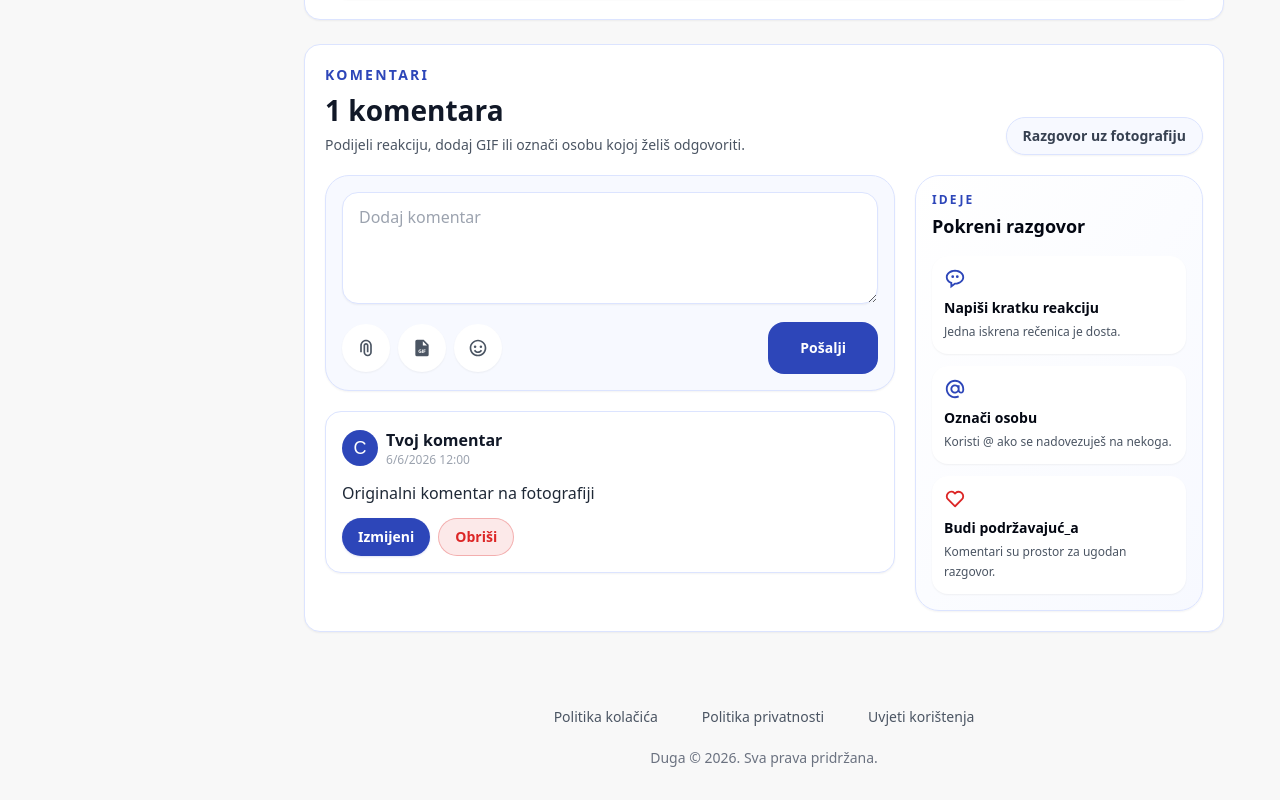
Test: photo comment CRUD › edits an existing photo comment
(page scrolled)
Expected: the element with test id "photo-comment-card" reads "Originalni komentar na fotografiji", [342,482,595,504]
Click the button with test id "photo-comment-edit-button".
click(386, 537)  # box [342,518,430,556]
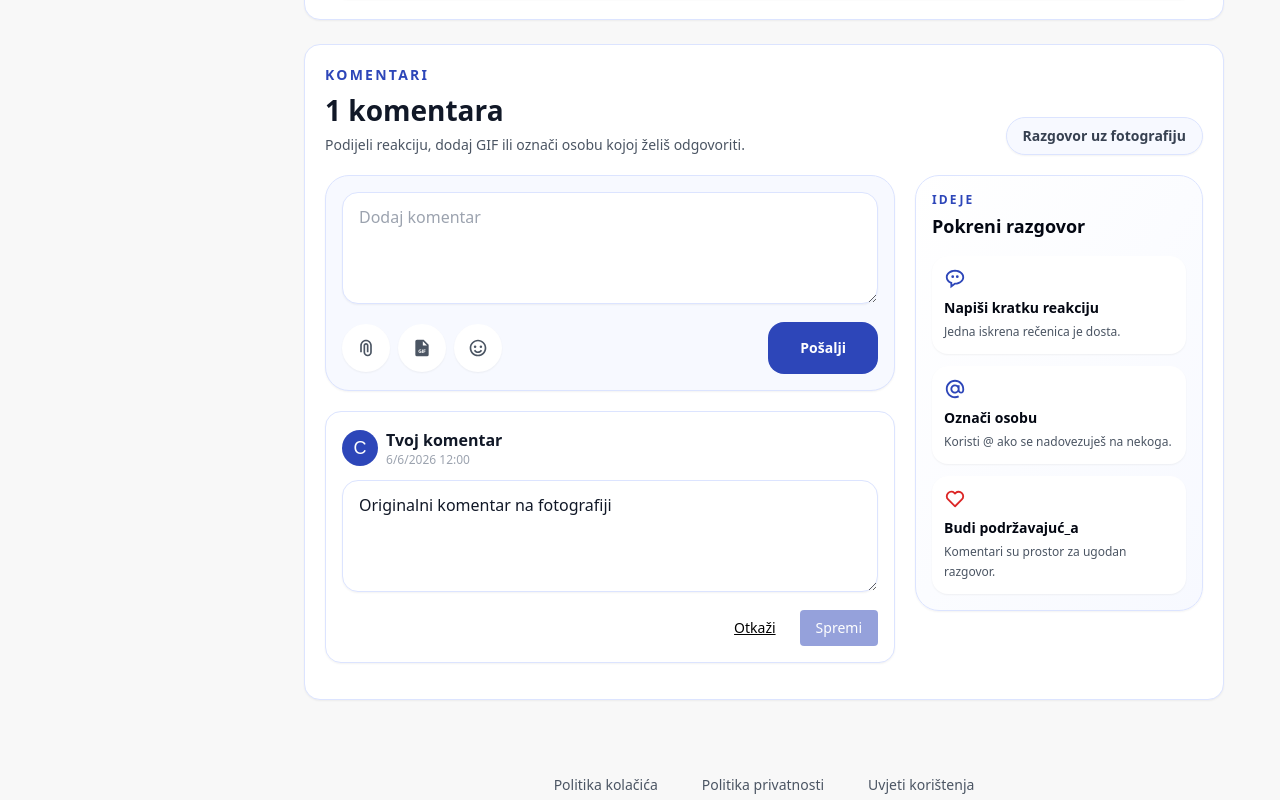
Now the form with test id "photo-comment-edit-form" is shown, box [342,480,878,646]
Replace the text in the text box with test id "photo-comment-edit-input" with "Komentar izmijenjen iz Cypressa" at (610, 536), box [342,480,878,592]
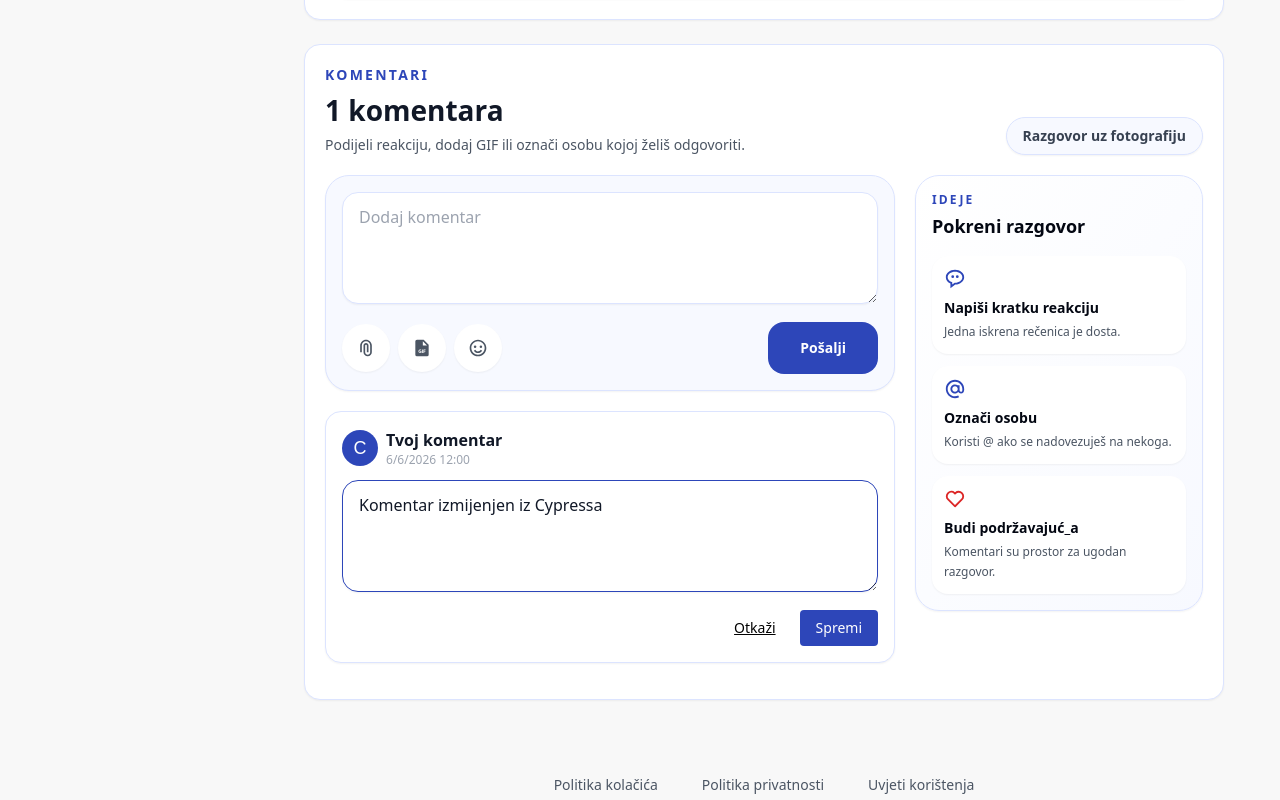
Click the button with test id "photo-comment-edit-save".
click(839, 628)  # box [800,610,878,646]
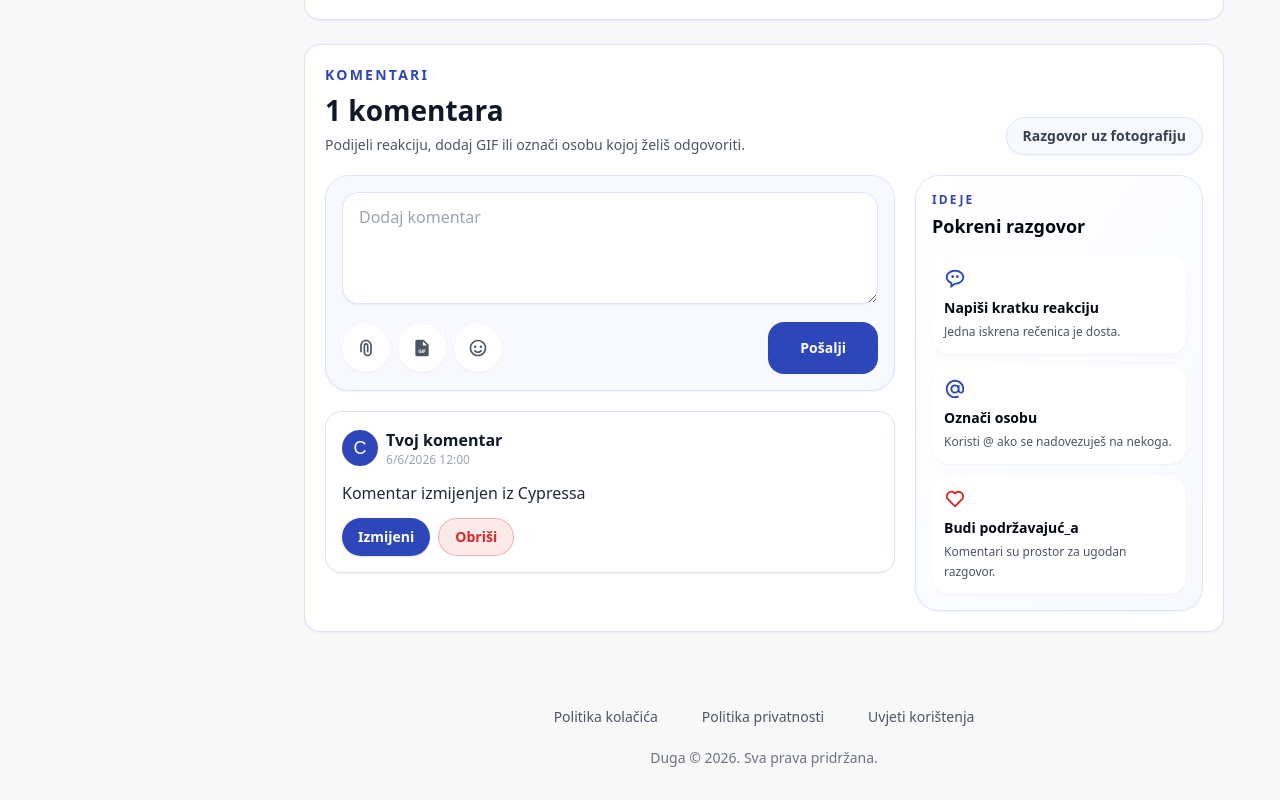
Expected: the element with test id "photo-comment-card" does not show "Originalni komentar na fotografiji"
Now the element with test id "photo-comment-card" reads "Komentar izmijenjen iz Cypressa", box [342,482,586,504]
